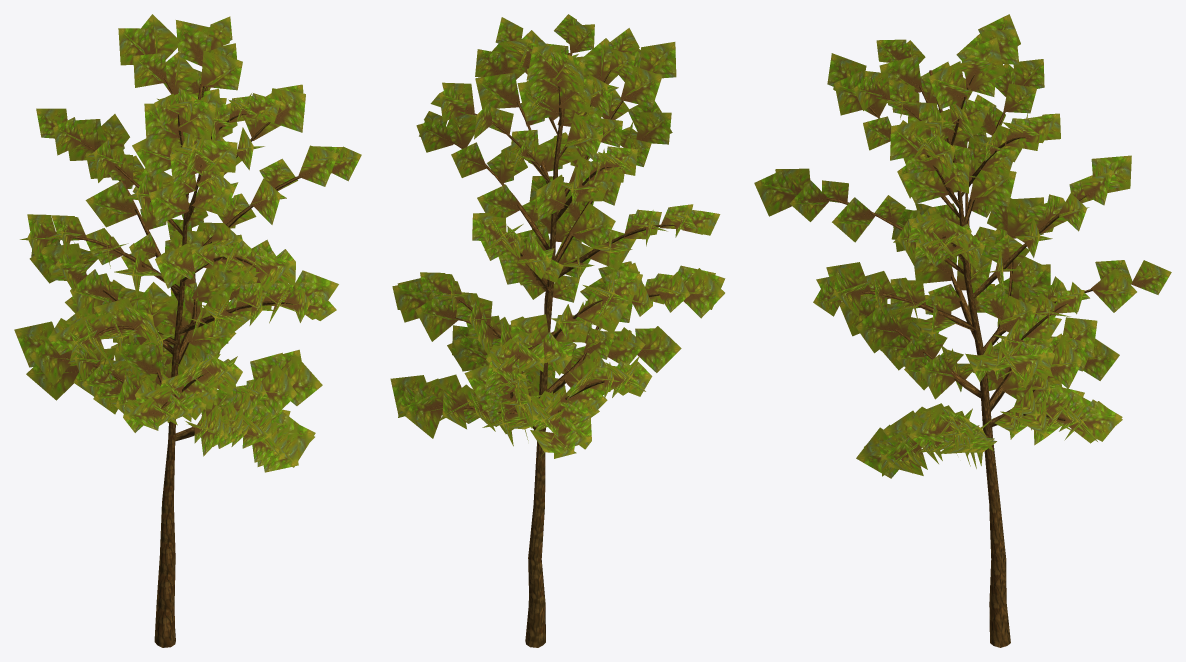
Rendered from Tree3.fbx.
3 renders of one model, left to right at view 1: azimuth 30°, elevation 25°; view 2: azimuth 150°, elevation 25°; view 3: azimuth 270°, elevation 25°, orthographic. The views are drawn at different scales.
Visible parts, largest first — view 1: branch_1, textureplane_oaktiled_albedotransparency_0; view 2: branch_1, textureplane_oaktiled_albedotransparency_0; view 3: branch_1, textureplane_oaktiled_albedotransparency_0.
Part boxes in pixels (box(x1,y1,x2,y2)): branch_1: box(14, 14, 361, 472); textureplane_oaktiled_albedotransparency_0: box(66, 78, 301, 647); branch_1: box(390, 14, 725, 458); textureplane_oaktiled_albedotransparency_0: box(439, 51, 686, 647); branch_1: box(754, 14, 1171, 478); textureplane_oaktiled_albedotransparency_0: box(825, 70, 1133, 647).
Size of the model in its own units: 430 by 804 by 497.
